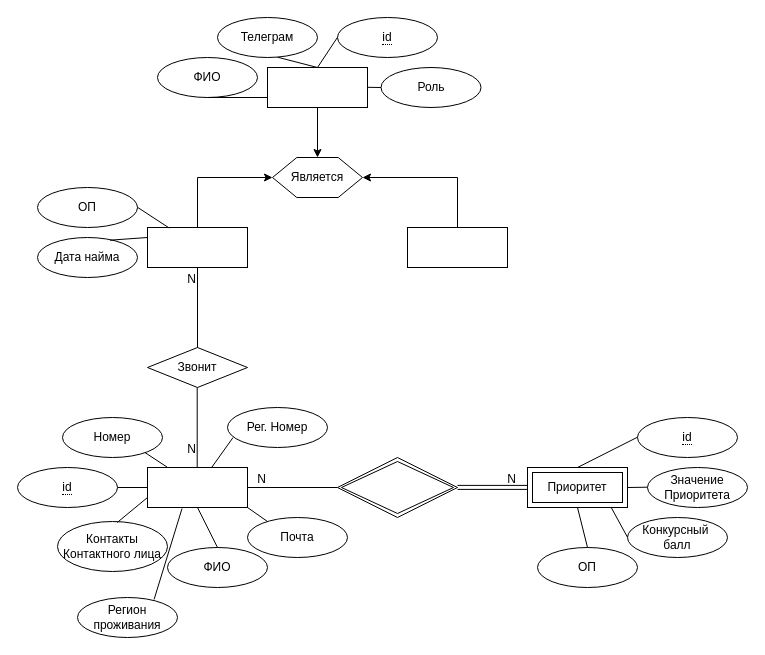
Image size: 765x655. Some labels were removed from this diagram. Each missing label, with the box of its shape:
Caller: (146, 226, 248, 268)
Абитуриент: (146, 466, 248, 508)
Админ: (406, 226, 508, 268)
Выбирает: (336, 456, 458, 518)
Сотрудник: (266, 66, 368, 108)
